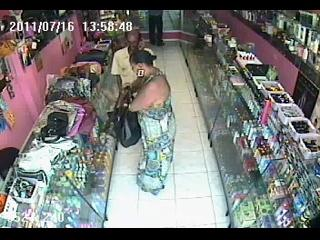Normal: (126, 48, 176, 195), (110, 29, 146, 92), (114, 107, 141, 148), (147, 10, 165, 46), (76, 50, 109, 66)
